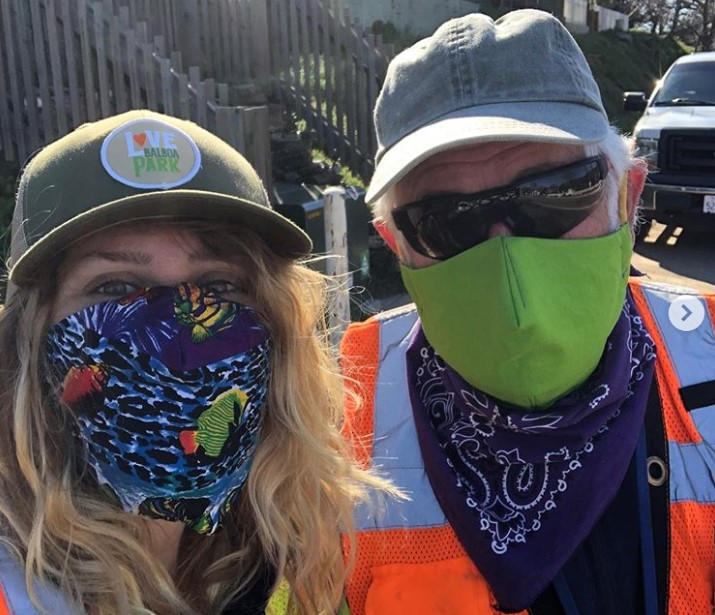face_with_mask: (12, 111, 281, 532), (367, 12, 649, 401)
